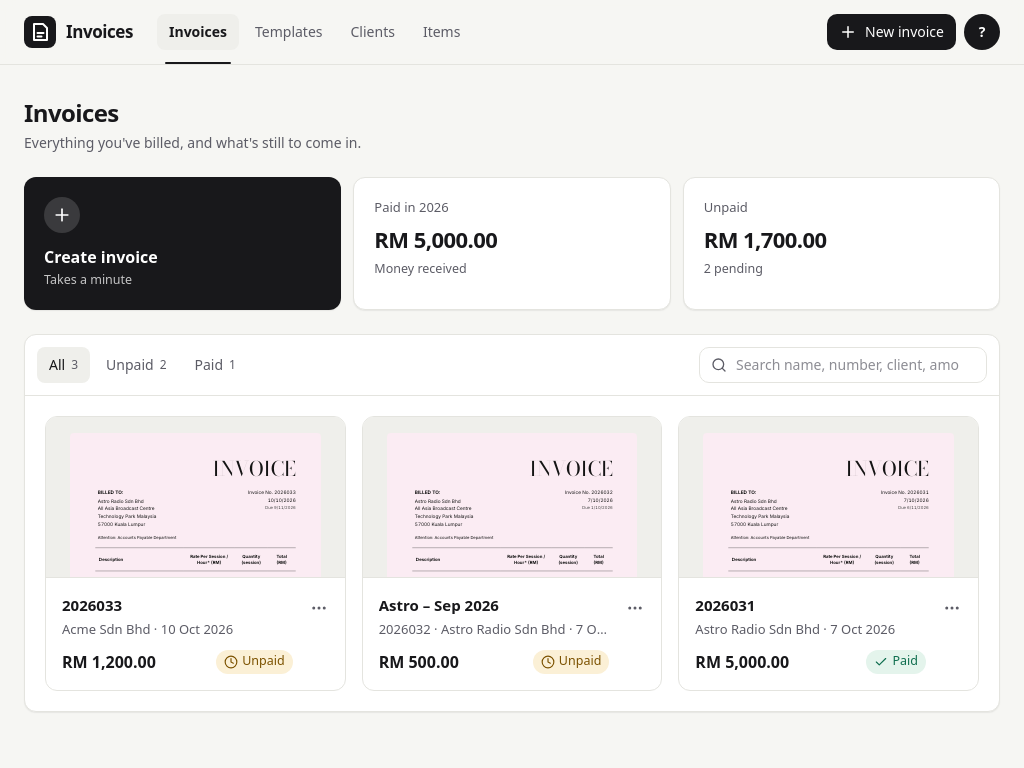
Test case: invoices dashboard › records a payment from the row menu
Later steps or results of the test are not shown.
Click the button named "Actions for 2026032": (635,608) [617,590,653,626]
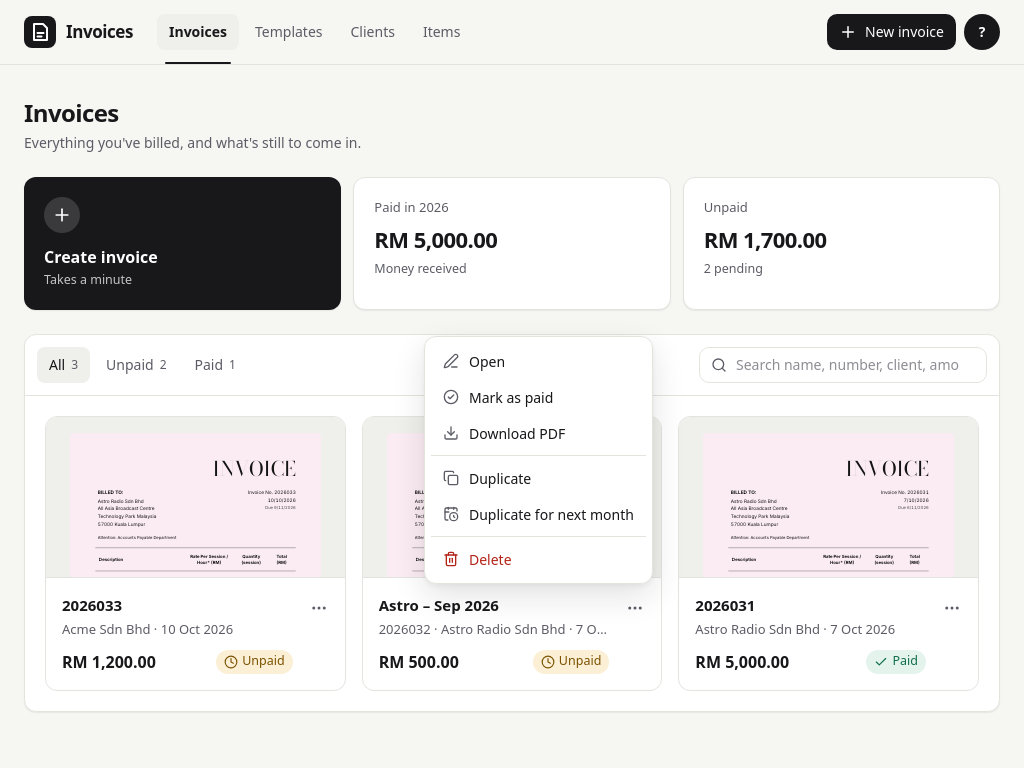
Click the menu item "Mark as paid": (498,397) [443,388,553,406]
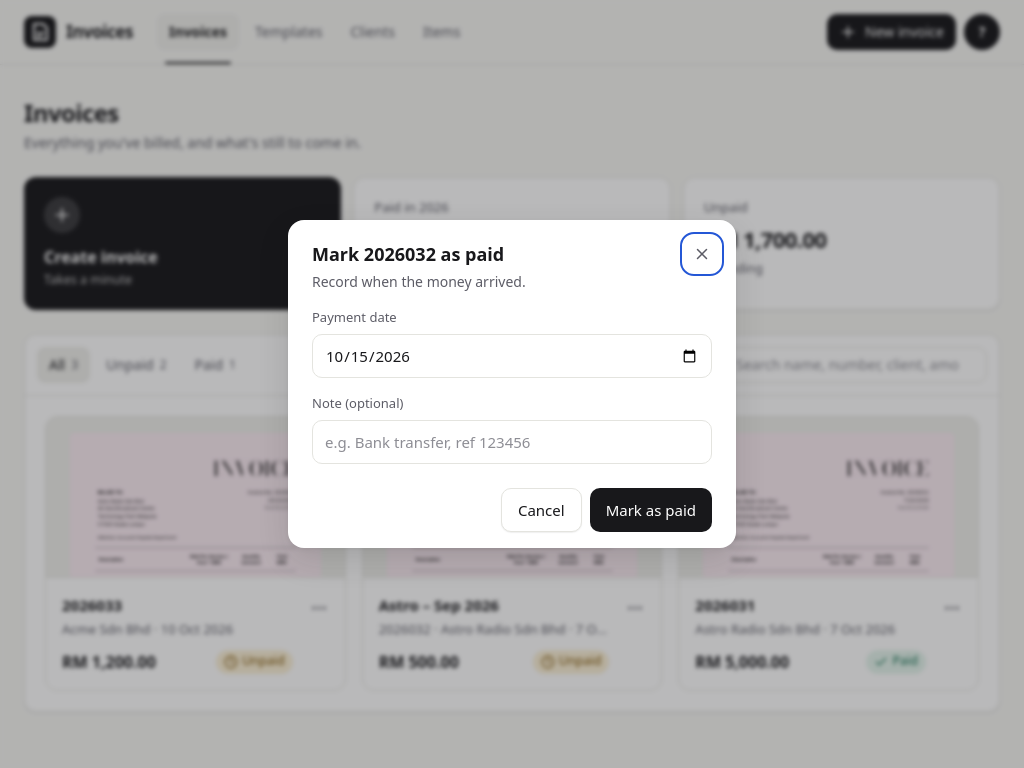
Now the date field labelled "Payment date" holds "2026-10-15", box [312,334,712,378]
